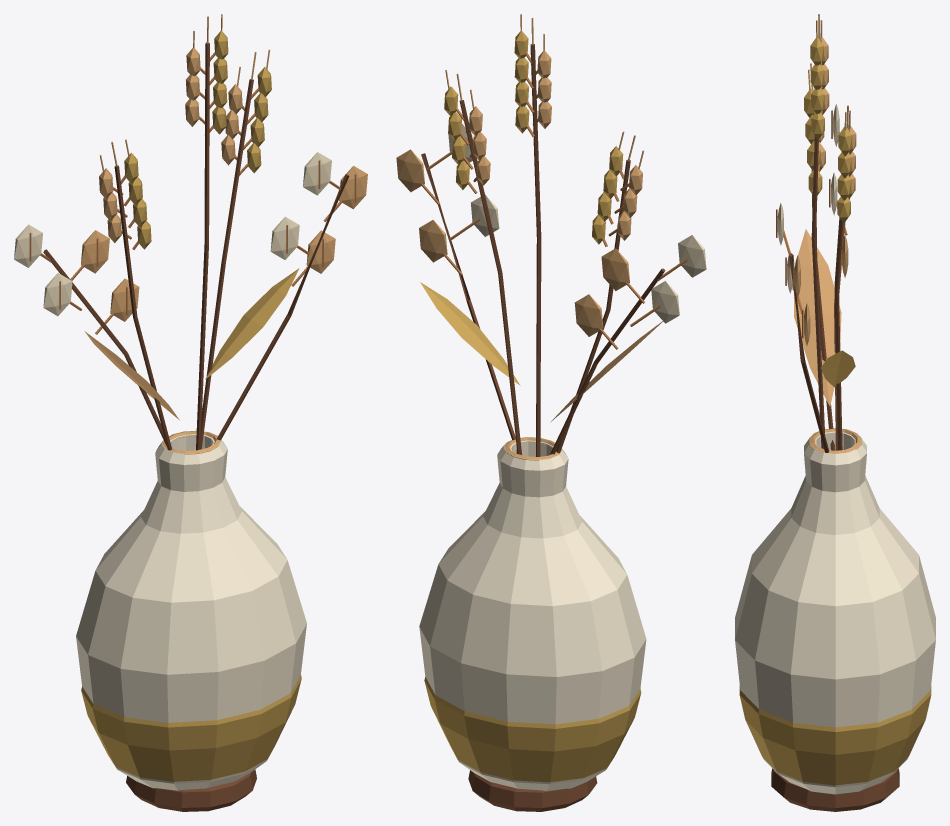
Rendered from 022_vase_dried_stems_v01.glb.
3 renders of one model, left to right at view 1: azimuth 30°, elevation 25°; view 2: azimuth 150°, elevation 25°; view 3: azimuth 270°, elevation 25°, orthographic. The views are drawn at different scales.
Visible parts, largest first — view 1: Hollow sculptural dried-flower vase, Vase warm dipped lower band, Vase low unglazed foot, Asymmetric dried stem 2, Short folded dried leaf, Asymmetric dried stem 1, Asymmetric dried stem 0, Asymmetric dried stem 3, Asymmetric dried stem 4, Long curled dried leaf, Dried translucent lunaria seed disc.001, Dried translucent lunaria seed disc.005 (+6 smaller); view 2: Hollow sculptural dried-flower vase, Vase warm dipped lower band, Vase low unglazed foot, Asymmetric dried stem 2, Short folded dried leaf, Asymmetric dried stem 1, Asymmetric dried stem 3, Asymmetric dried stem 4, Asymmetric dried stem 0, Dried translucent lunaria seed disc.002, Dried translucent lunaria seed disc.004, Dried translucent lunaria seed disc (+5 smaller); view 3: Hollow sculptural dried-flower vase, Vase warm dipped lower band, Long curled dried leaf, Vase low unglazed foot, Asymmetric dried stem 2, Asymmetric dried stem 1, Asymmetric dried stem 3, Short folded dried leaf, Asymmetric dried stem 0, Vase neck rim shadow.
Boxes of the visible parts, x1,y1,x2,y2 form: Hollow sculptural dried-flower vase: (76,430,306,790); Vase warm dipped lower band: (81,674,301,781); Vase low unglazed foot: (126,769,256,811); Asymmetric dried stem 2: (196,43,209,450); Short folded dried leaf: (205,268,299,379); Asymmetric dried stem 1: (200,79,253,449); Asymmetric dried stem 0: (114,165,171,450); Asymmetric dried stem 3: (217,174,349,440); Asymmetric dried stem 4: (43,249,166,445); Long curled dried leaf: (84,331,179,420); Dried translucent lunaria seed disc.001: (270,216,299,259); Dried translucent lunaria seed disc.005: (43,273,72,316); Hollow sculptural dried-flower vase: (419,437,646,790); Vase warm dipped lower band: (424,677,641,782); Vase low unglazed foot: (468,770,597,811); Asymmetric dried stem 2: (530,44,541,456); Short folded dried leaf: (420,282,520,385); Asymmetric dried stem 1: (459,100,521,454); Asymmetric dried stem 3: (421,153,517,453); Asymmetric dried stem 4: (550,268,665,454); Asymmetric dried stem 0: (556,159,630,453); Dried translucent lunaria seed disc.002: (396,149,424,192); Dried translucent lunaria seed disc.004: (574,294,603,336); Dried translucent lunaria seed disc: (419,220,447,262); Hollow sculptural dried-flower vase: (735,428,935,794); Vase warm dipped lower band: (739,686,931,785); Long curled dried leaf: (794,229,841,406); Vase low unglazed foot: (771,768,899,811); Asymmetric dried stem 2: (811,40,825,448); Asymmetric dried stem 1: (834,129,849,450); Asymmetric dried stem 3: (789,253,829,452); Short folded dried leaf: (821,350,855,386); Asymmetric dried stem 0: (811,169,835,450); Vase neck rim shadow: (809,428,861,453).
Bounding box in the file's own units: 0.2879 × 0.637 × 0.1492.
